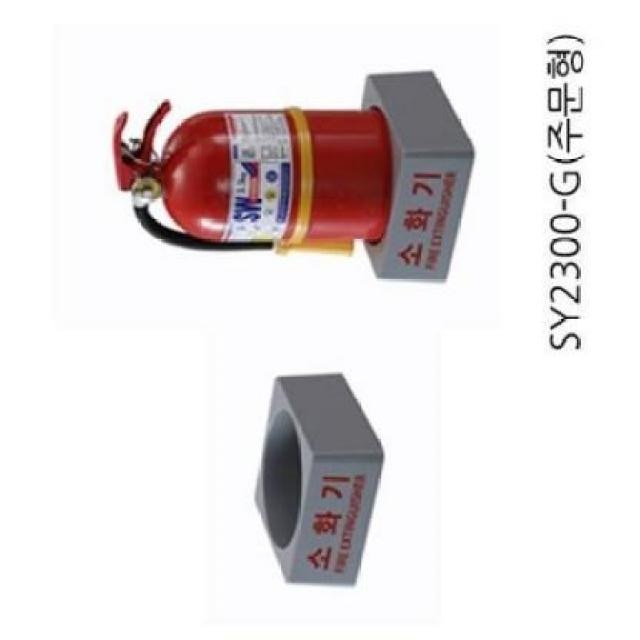fire extinguisher: (112, 99, 392, 258)
